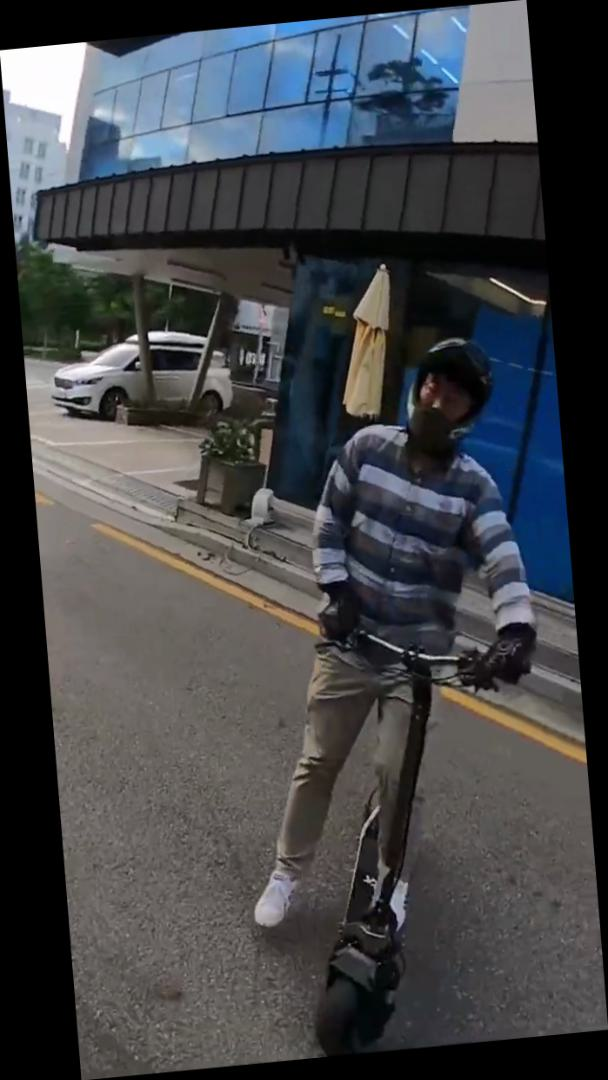helmet: (209, 327, 568, 1063)
